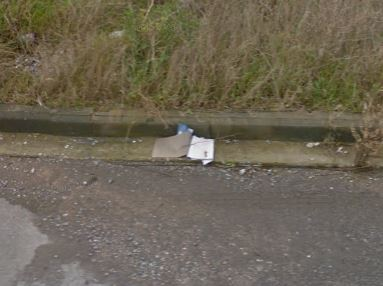trash: (149, 118, 230, 165)
